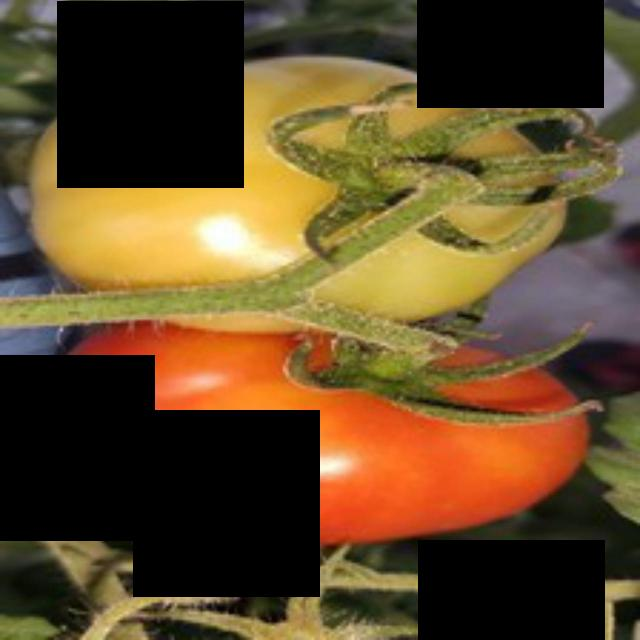tomato: (60, 306, 604, 538)
